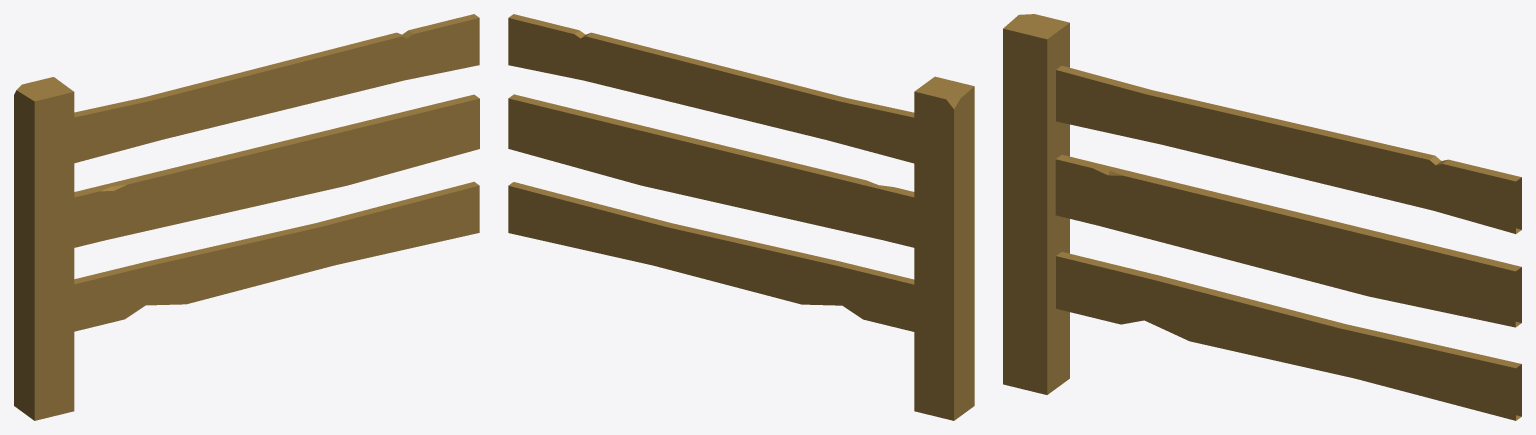
File: SM_WFence_1.fbx
3 renders of one model, left to right at view 1: azimuth 30°, elevation 25°; view 2: azimuth 150°, elevation 25°; view 3: azimuth 330°, elevation 25°, orthographic. The views are drawn at different scales.
Parts seen in each view (by area): view 1: Box047; view 2: Box047; view 3: Box047.
Boxes of the visible parts, left/top/right/bottom form: Box047: left=14, top=14, right=479, bottom=420; Box047: left=508, top=14, right=974, bottom=420; Box047: left=1003, top=14, right=1521, bottom=420.
Bounding box in the file's own units: 158 × 106 × 12.32.
